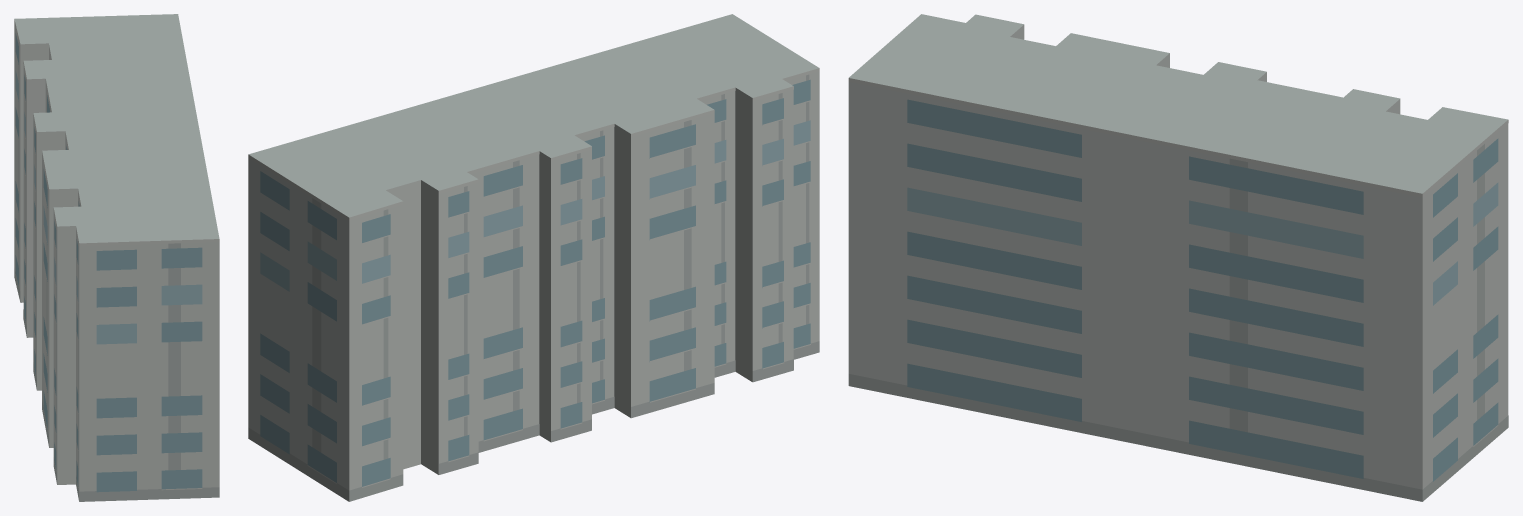
The model's file is survey-upis-32550844.glb.
3 renders of one model, left to right at view 1: azimuth 30°, elevation 25°; view 2: azimuth 150°, elevation 25°; view 3: azimuth 270°, elevation 25°, orthographic. The views are drawn at different scales.
Parts seen in each view (by area): view 1: survey-upis-32550844.tmp; view 2: survey-upis-32550844.tmp; view 3: survey-upis-32550844.tmp.
Part boxes in pixels (x1,y1,x2,y2): survey-upis-32550844.tmp: (14, 14, 219, 501); survey-upis-32550844.tmp: (248, 14, 819, 501); survey-upis-32550844.tmp: (848, 14, 1508, 501).
Size of the model in its own units: 25.41 by 20.3 by 39.41.
